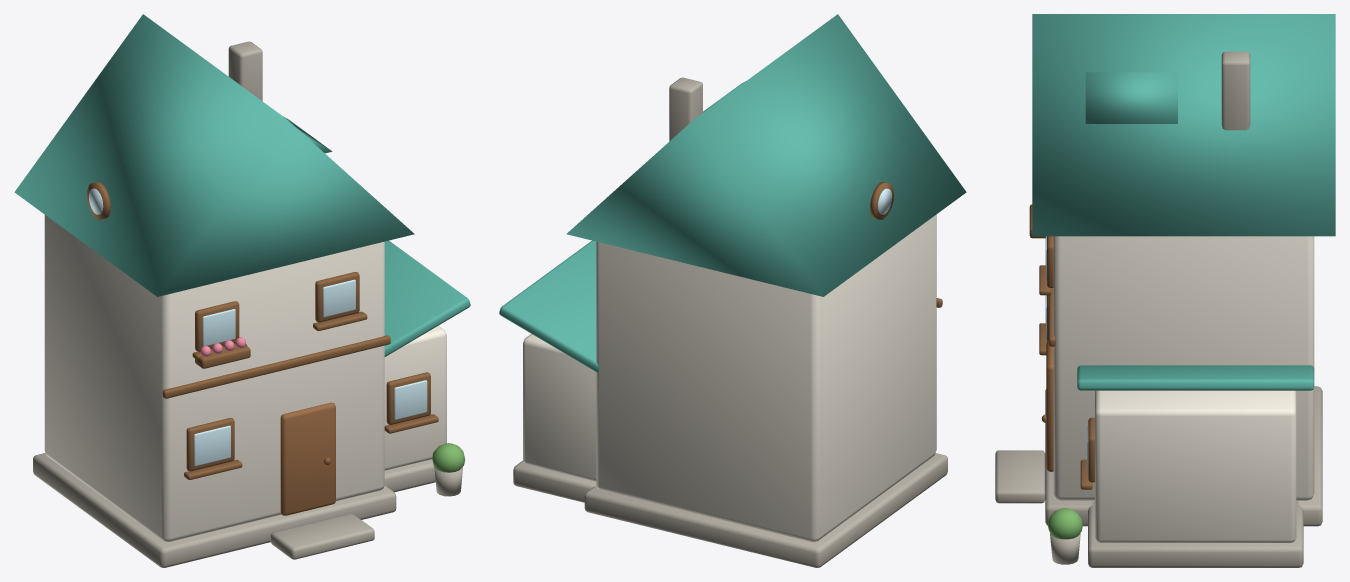
The model's file is house-grown-3.glb.
3 renders of one model, left to right at view 1: azimuth 30°, elevation 25°; view 2: azimuth 150°, elevation 25°; view 3: azimuth 270°, elevation 25°, orthographic. The views are drawn at different scales.
Parts seen in each view (by area): view 1: house; view 2: house; view 3: house.
Boxes of the visible parts, left/top/right/bottom form: house: left=14, top=14, right=470, bottom=567; house: left=499, top=14, right=966, bottom=567; house: left=995, top=14, right=1335, bottom=567.
Size of the model in its own units: 3.47 by 4.22 by 2.87.
